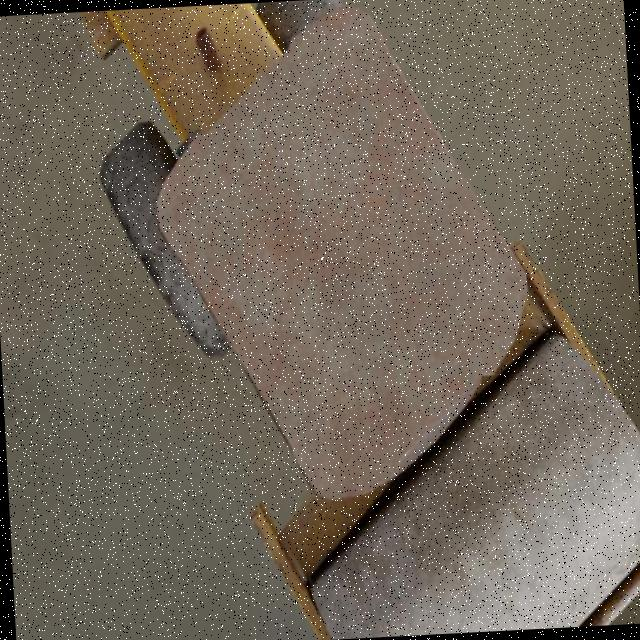Roller: (79, 0, 640, 640)
